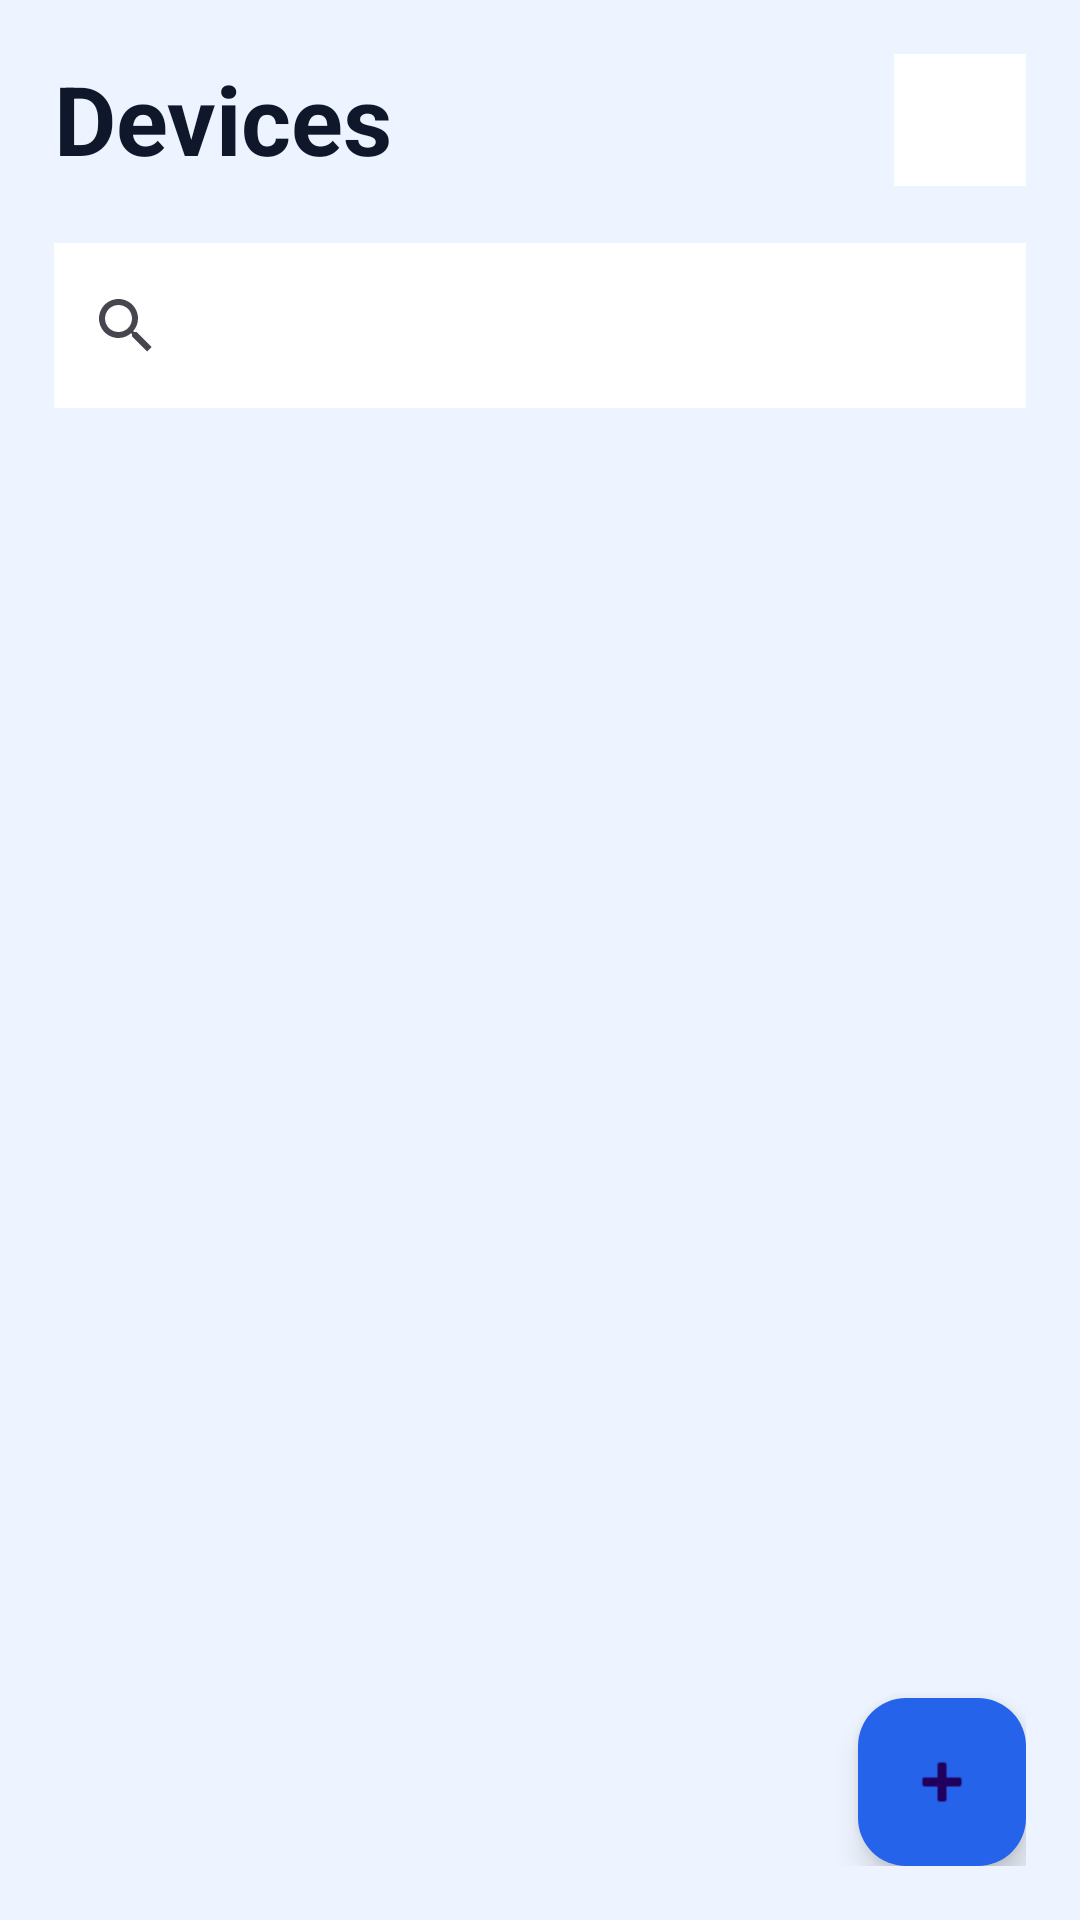

Icon bounding boxes for this 1080px×1920px phone screenshot, format detection(x1, y1, x2, y2):
Add Device: detection(858, 1698, 1026, 1866)
